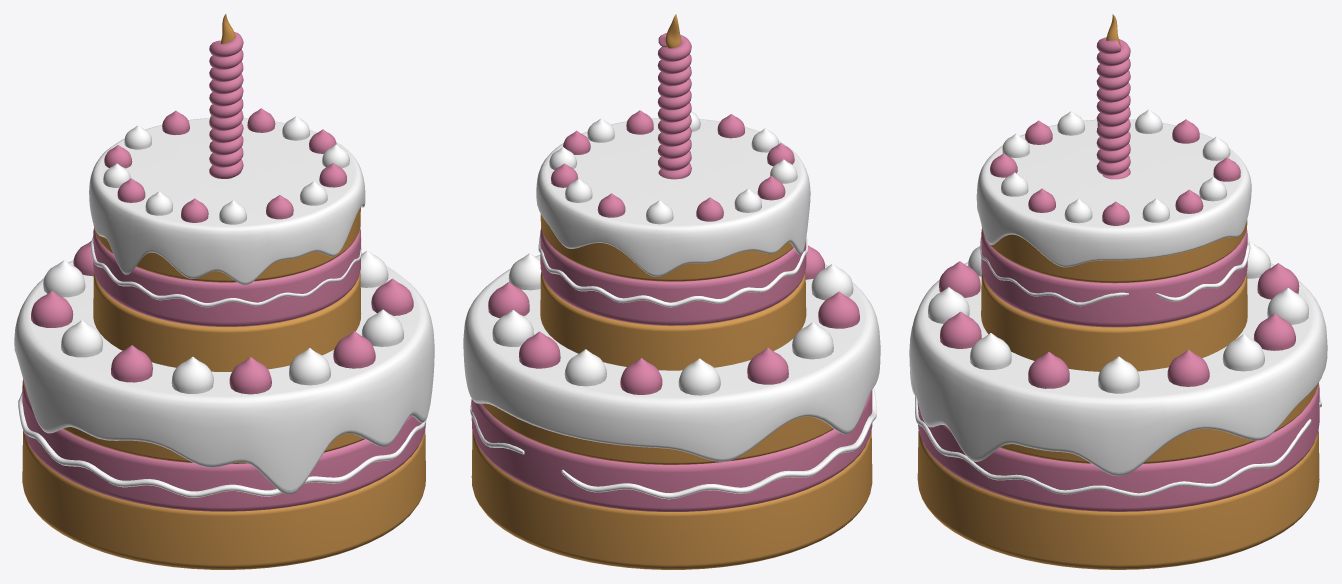
File: 3d-casual-life-birthday-cake.fbx
The picture shows the model from 3 angles, left to right: view 1: azimuth 30°, elevation 25°; view 2: azimuth 150°, elevation 25°; view 3: azimuth 270°, elevation 25°; orthographic projection.
Visible parts, largest first — view 1: icons8_birthday_cake; view 2: icons8_birthday_cake; view 3: icons8_birthday_cake.
Part boxes in pixels (x1,y1,x2,y2): icons8_birthday_cake: [14, 14, 434, 569]; icons8_birthday_cake: [463, 14, 880, 569]; icons8_birthday_cake: [909, 14, 1327, 569].
Size of the model in its own units: 158 by 197 by 158.
